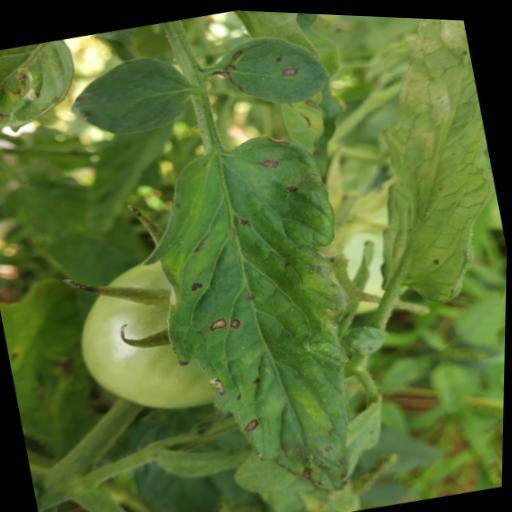Early Blight: (125, 116, 393, 512), (199, 16, 337, 121)
